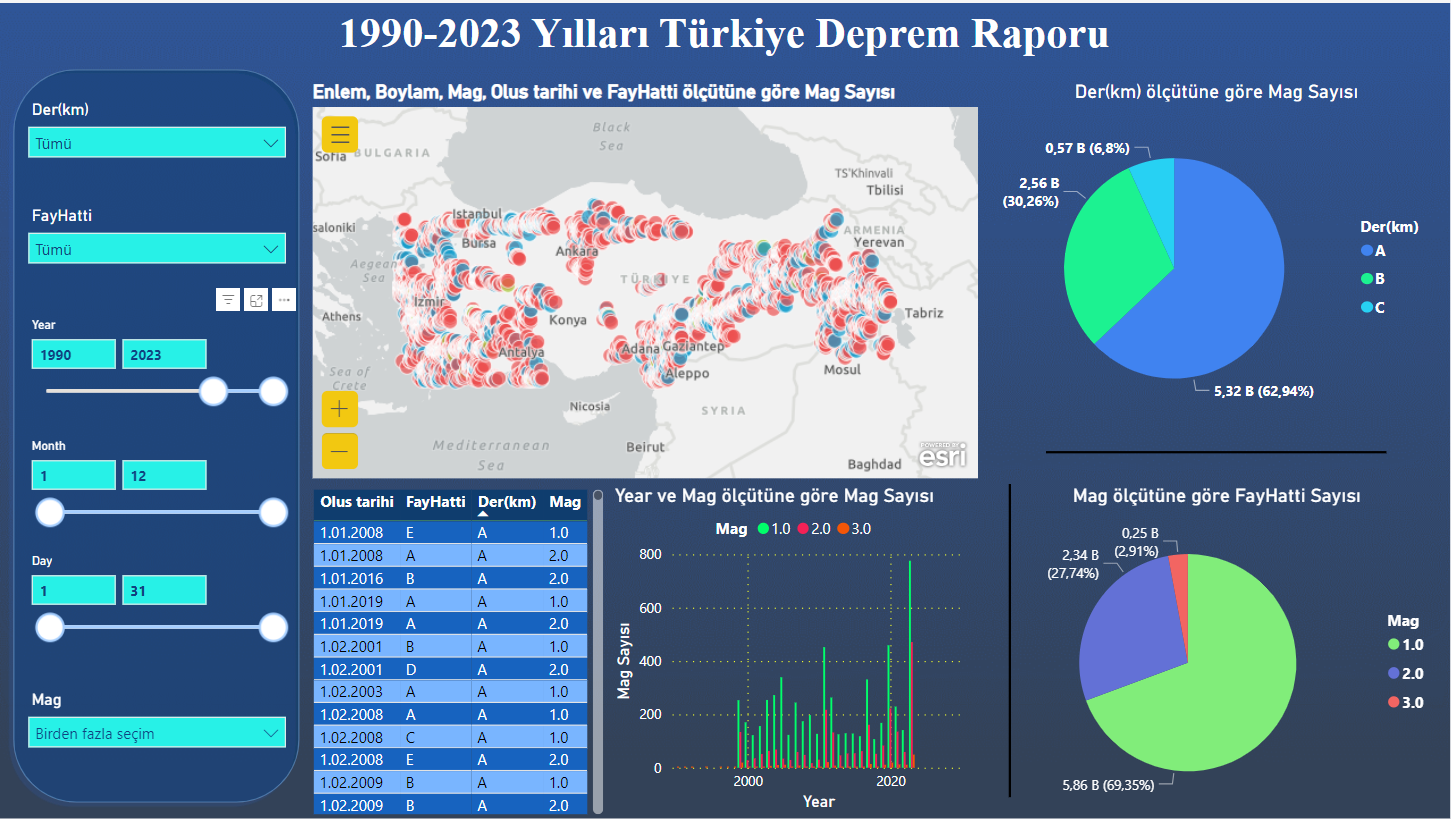

This screenshot's page, from the dashboard's own definition file:
{"tool":"powerbi","page":{"name":"Page 1","canvas":[1280,720],"ordinal":0},"visuals":[{"type":"shape","box":[7.1,52.3,265.1,658.8],"z":0},{"type":"slicer","fields":{"Values":["data_2_label1706.Der(km)"]},"box":[16.8,80.7,246.5,81.6],"z":1000},{"type":"slicer","fields":{"Values":["data_2_label1706.FayHatti"]},"box":[16.8,174.7,246.5,81.6],"z":2000},{"type":"slicer","fields":{"Values":["data_2_label1706.Day"]},"box":[16.8,480.6,246.5,101.1],"z":3000},{"type":"slicer","fields":{"Values":["data_2_label1706.Month"]},"box":[16.8,378.6,246.5,102],"z":4000},{"type":"slicer","fields":{"Values":["data_2_label1706.Year"]},"box":[16.8,272.2,246.5,106.4],"z":5000},{"type":"slicer","fields":{"Values":["data_2_label1706.Mag"]},"box":[16.8,601.2,246.5,75.4],"z":6000},{"type":"esriVisual","fields":{"Longitude":["data_2_label1706.Boylam"],"Latitude":["data_2_label1706.Enlem"],"Size":["data_2_label1706.Mag"],"Color":["data_2_label1706.Mag"],"Time":["data_2_label1706.Olus tarihi"]},"box":[272.1,68,595.8,355.7],"z":7000},{"type":"tableEx","fields":{"Values":["data_2_label1706.Olus tarihi","data_2_label1706.FayHatti","data_2_label1706.Der(km)","data_2_label1706.Mag"]},"box":[272.2,423.8,266,296.2],"z":8000},{"type":"textbox","box":[0,0,1280,63.2],"z":9000},{"type":"pieChart","fields":{"Y":["data_2_label1706.Mag"],"Category":["data_2_label1706.Der(km)"]},"box":[868.1,68.3,411.4,313],"z":10000},{"type":"clusteredColumnChart","fields":{"Y":["data_2_label1706.Mag"],"Series":["data_2_label1706.Mag"],"Category":["data_2_label1706.Year"]},"box":[538.2,423.8,329.9,293.5],"z":11000},{"type":"pieChart","fields":{"Y":["data_2_label1706.FayHatti"],"Category":["data_2_label1706.Mag"]},"box":[868.1,423.8,412.3,296.2],"z":12000},{"type":"shape","box":[751.9,423.8,280.2,275.8],"z":12001},{"type":"shape","box":[923.9,245.6,299.7,299.7],"z":12002}]}

Visuals, with their boxes in screenshot pixels (x1, y1, x2, y2), scaled from the page's 1280x720 canvas onto the 1451x820 screenshot:
shape: bbox=(8, 60, 309, 810)
slicer - data_2_label1706.Der(km): bbox=(19, 92, 298, 185)
slicer - data_2_label1706.FayHatti: bbox=(19, 199, 298, 292)
slicer - data_2_label1706.Day: bbox=(19, 547, 298, 662)
slicer - data_2_label1706.Month: bbox=(19, 431, 298, 547)
slicer - data_2_label1706.Year: bbox=(19, 310, 298, 431)
slicer - data_2_label1706.Mag: bbox=(19, 685, 298, 771)
esriVisual - data_2_label1706.Boylam x data_2_label1706.Enlem: bbox=(308, 77, 984, 483)
tableEx - data_2_label1706.Olus tarihi x data_2_label1706.FayHatti: bbox=(309, 483, 610, 819)
textbox: bbox=(0, 0, 1450, 72)
pieChart - data_2_label1706.Mag x data_2_label1706.Der(km): bbox=(984, 78, 1450, 434)
clusteredColumnChart - data_2_label1706.Mag x data_2_label1706.Mag: bbox=(610, 483, 984, 817)
pieChart - data_2_label1706.FayHatti x data_2_label1706.Mag: bbox=(984, 483, 1450, 819)
shape: bbox=(852, 483, 1170, 797)
shape: bbox=(1047, 280, 1387, 621)
